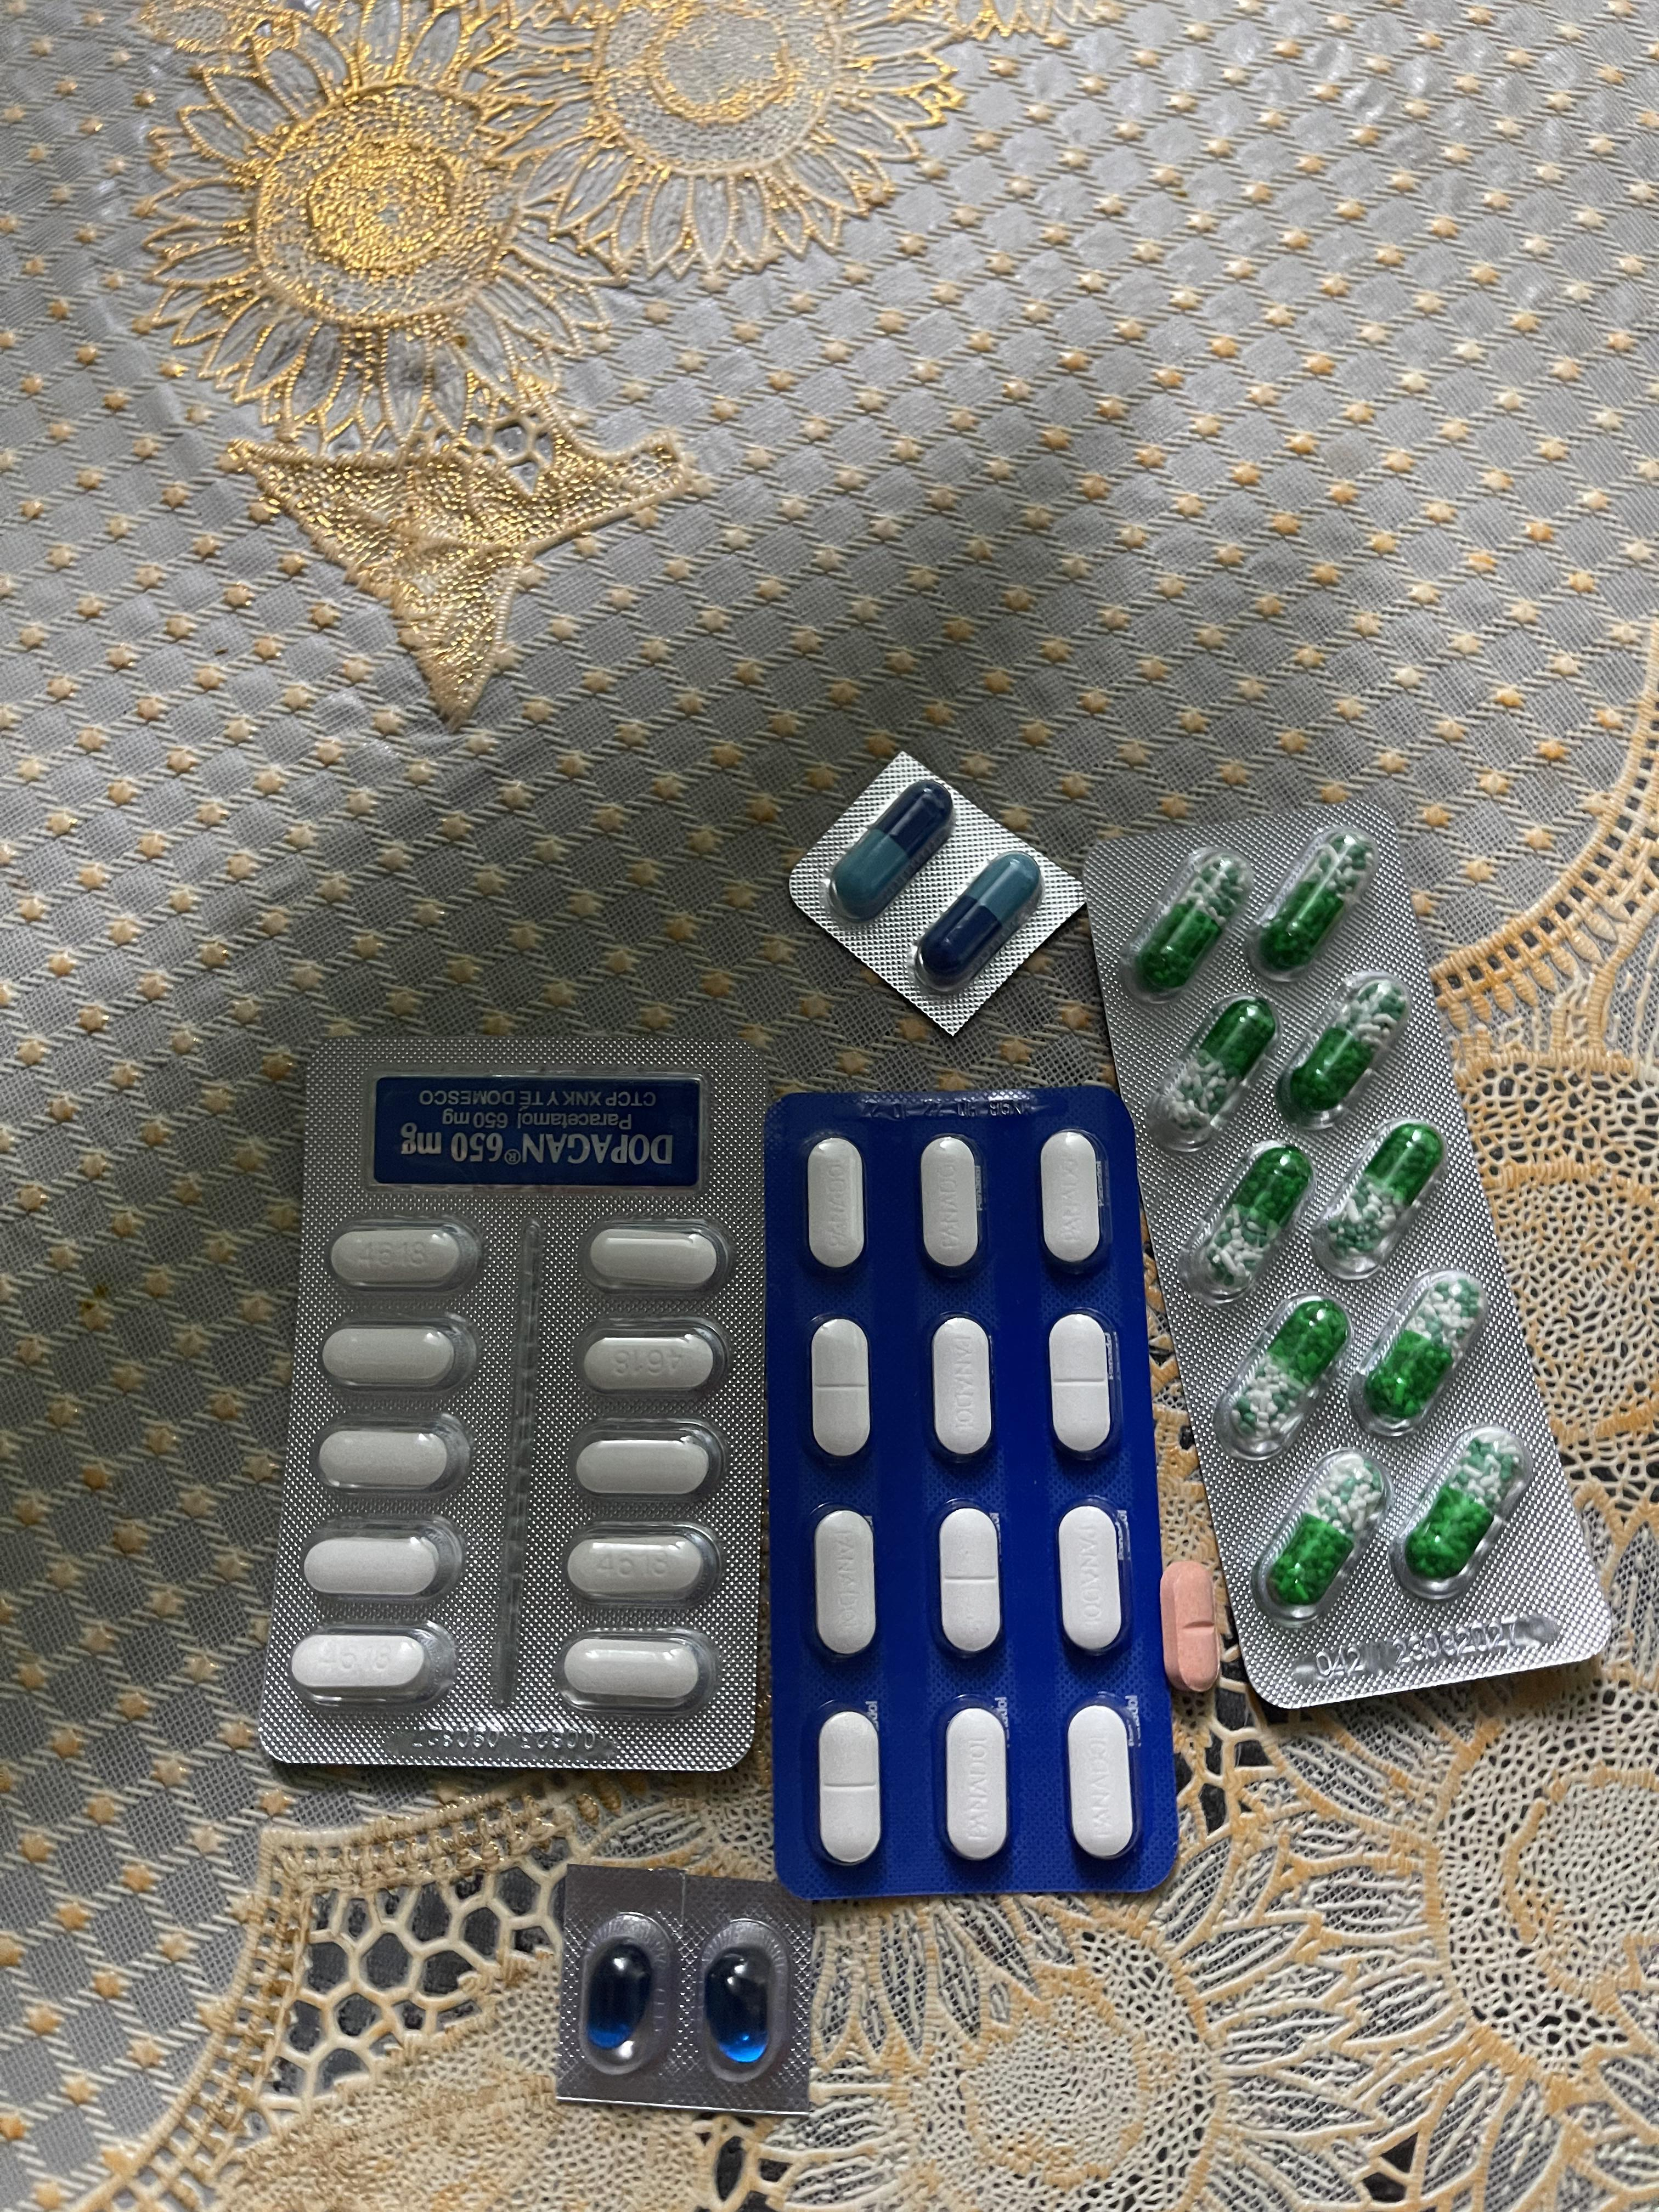Lincomyxin_500mg: (584, 1939, 657, 2060), (704, 1949, 772, 2062)
Loratadine_10mg: (1164, 1561, 1220, 1691)
Paracetamol_350mg: (1066, 1703, 1133, 1862), (943, 1707, 1007, 1864), (1058, 1507, 1124, 1656), (817, 1710, 880, 1864), (1047, 1313, 1114, 1454), (939, 1508, 1002, 1655), (814, 1510, 875, 1656), (932, 1318, 995, 1460), (1039, 1132, 1101, 1264), (918, 1137, 979, 1270), (812, 1320, 870, 1458), (807, 1139, 864, 1270)
Paracetamol_500mg: (566, 1531, 711, 1602), (301, 1533, 451, 1599), (317, 1426, 464, 1493), (563, 1637, 704, 1703), (322, 1325, 471, 1388), (331, 1226, 477, 1289), (573, 1433, 714, 1498), (293, 1632, 434, 1693), (584, 1331, 718, 1392), (586, 1228, 718, 1289)
Paracetamol_650mg: (1344, 1264, 1483, 1432), (1216, 1291, 1349, 1453), (1310, 1118, 1446, 1264), (1145, 989, 1272, 1136), (1265, 1458, 1387, 1608), (1283, 981, 1413, 1115), (1406, 1433, 1525, 1580), (1199, 1146, 1312, 1285), (1260, 838, 1373, 972), (1136, 855, 1244, 988)
pill: (911, 846, 1046, 991), (826, 779, 962, 920)
